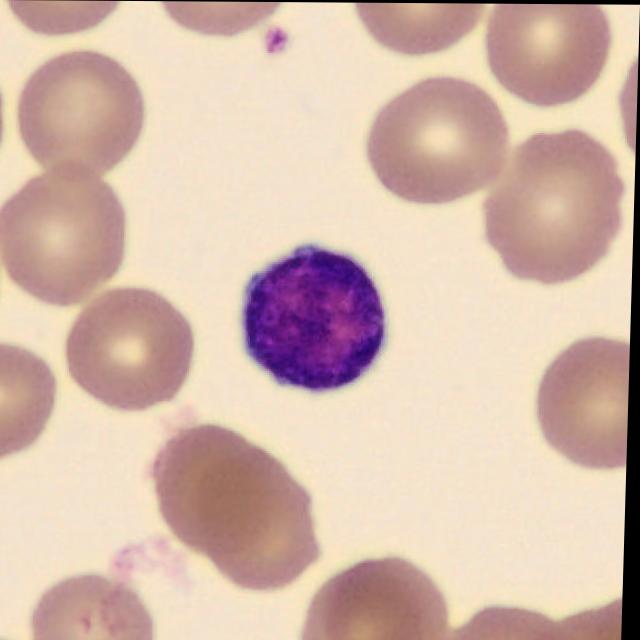Linfocito: (244, 244, 389, 391)
